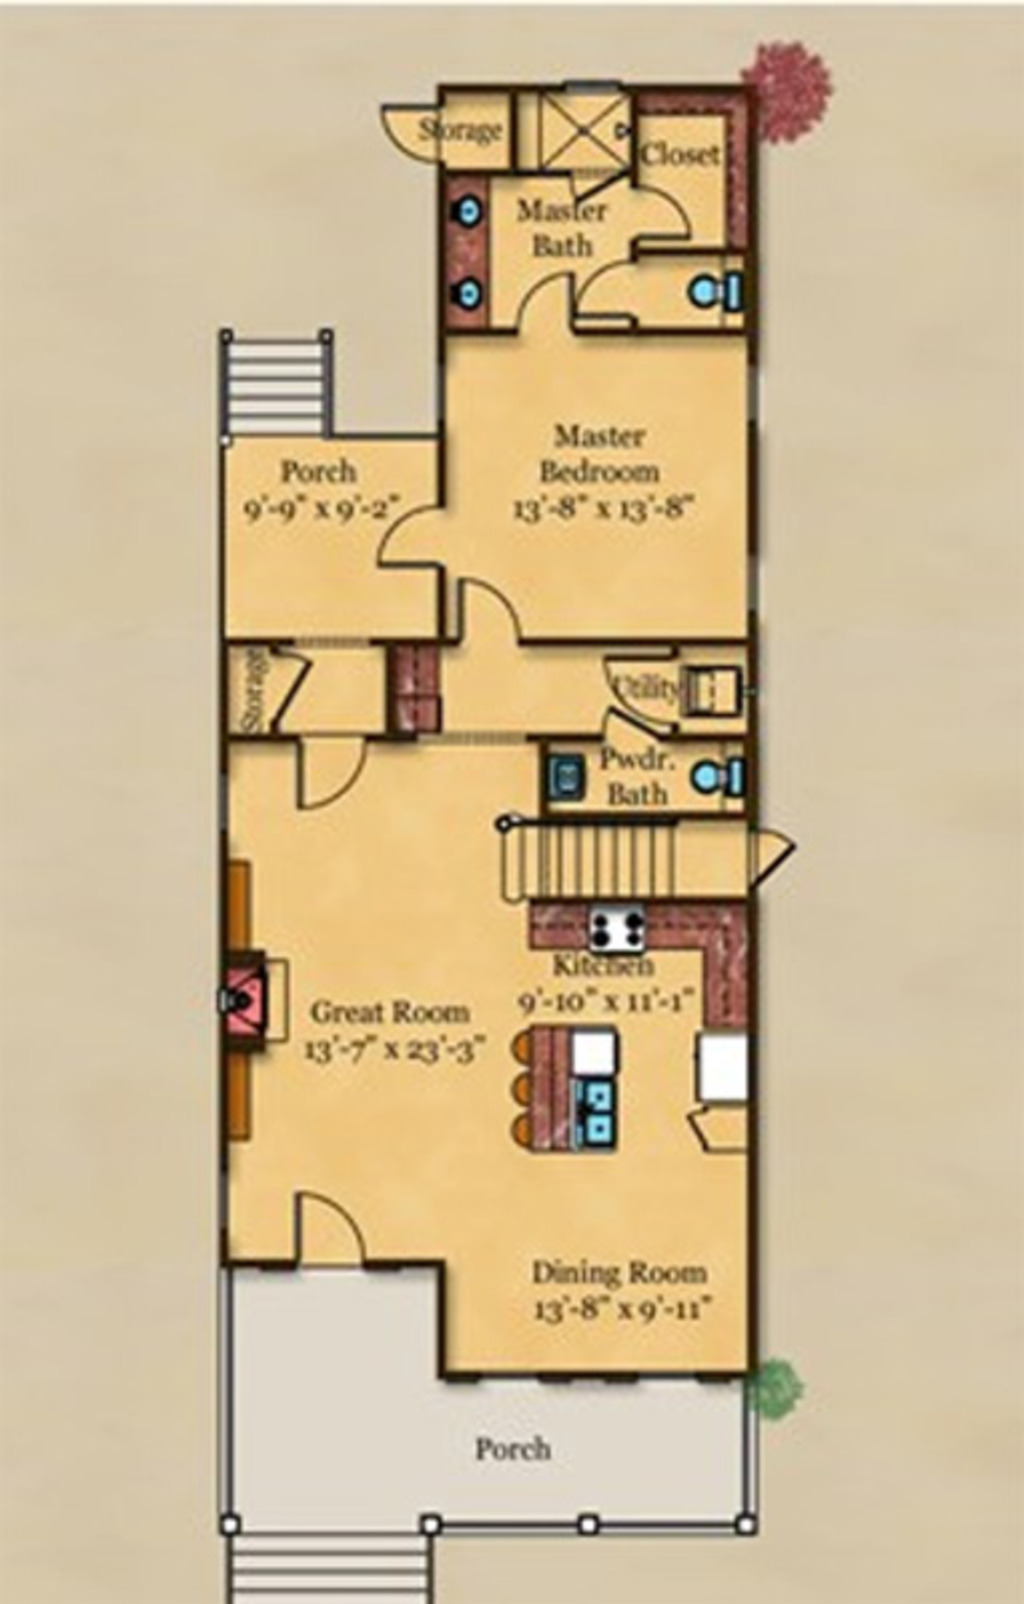door: (284, 1185, 374, 1273), (601, 649, 684, 730), (292, 734, 378, 808), (375, 505, 455, 579), (447, 574, 520, 649), (623, 177, 692, 247), (374, 101, 440, 167), (516, 274, 575, 337)
kitchen_bar: (504, 1022, 630, 1157)
large_sink: (674, 271, 753, 320)
stairs: (487, 813, 708, 901), (214, 322, 333, 442)
